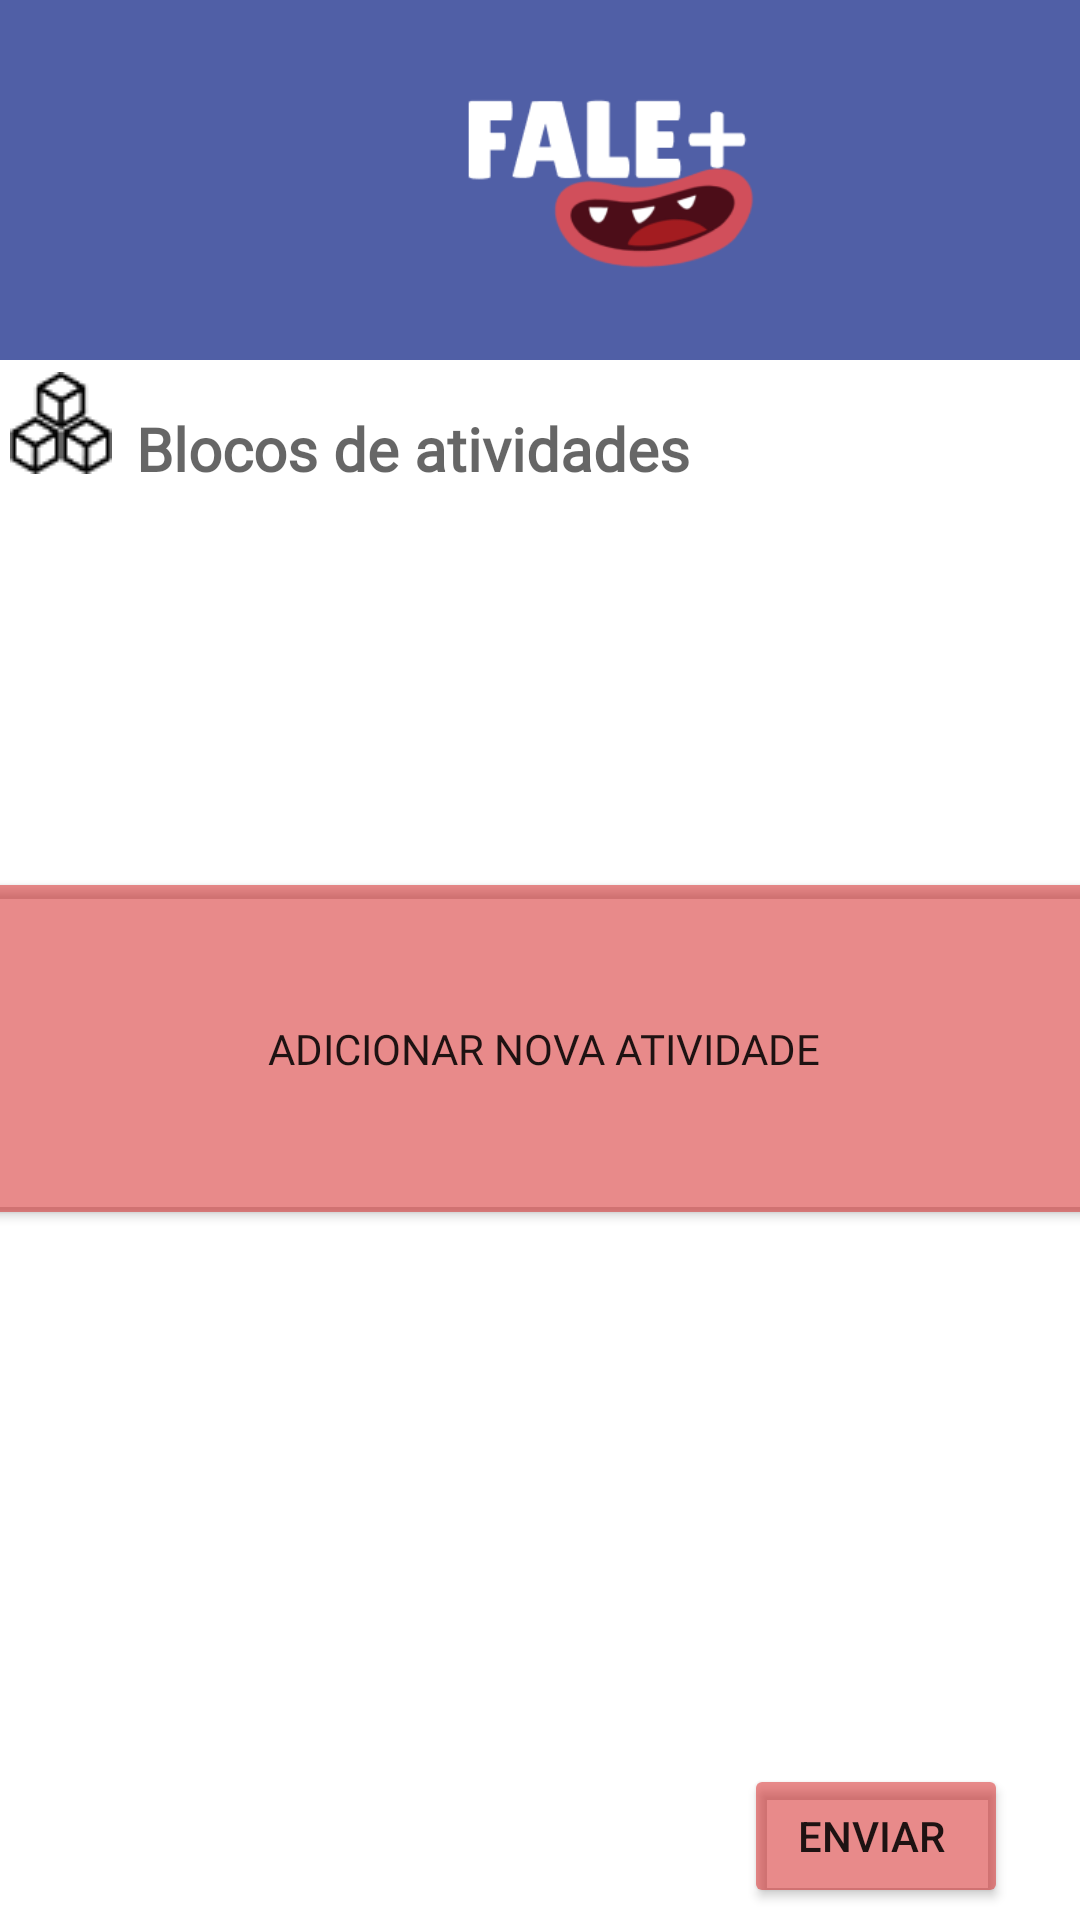

Screen size 1080 × 1920. Icon name, then its center in pixels as point (x, y):
blocos preto: point (61, 423)
